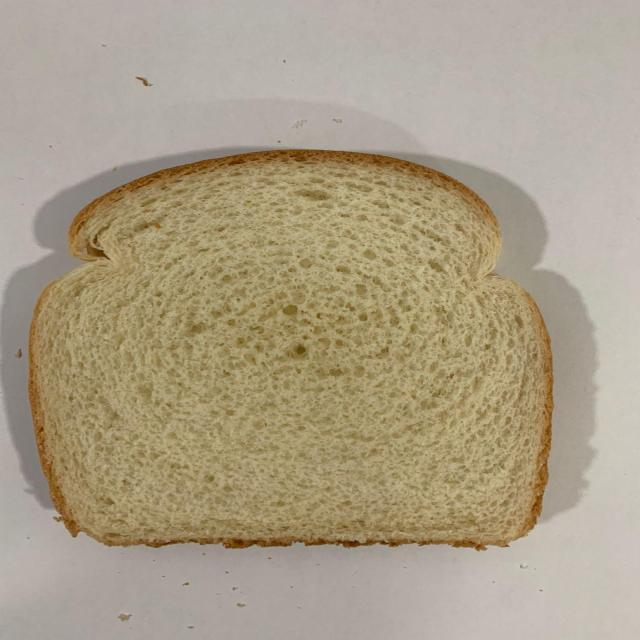pan: (25, 150, 554, 549)
